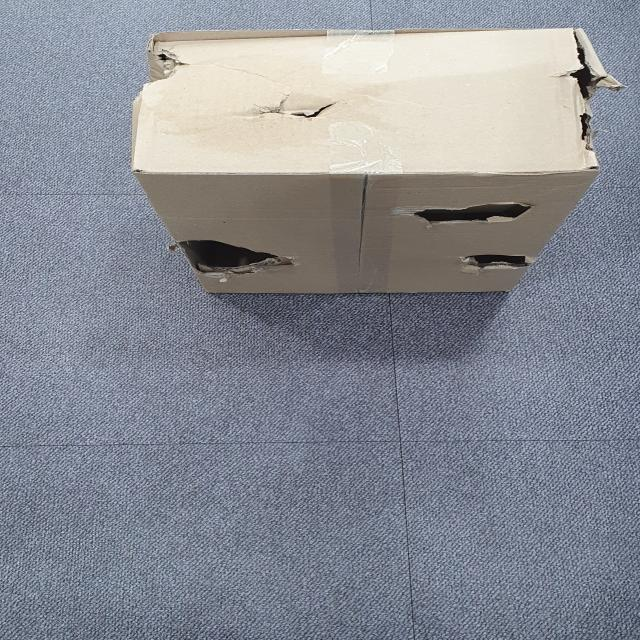hole: (561, 32, 621, 170), (398, 193, 540, 239), (176, 232, 298, 284), (448, 246, 541, 282), (242, 91, 338, 122), (146, 37, 188, 87)
